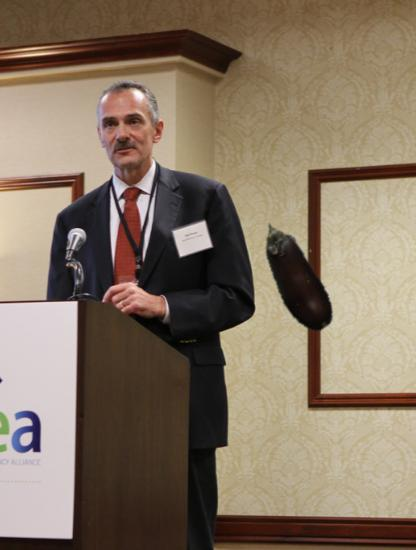Eggplant: (234, 217, 356, 339)
